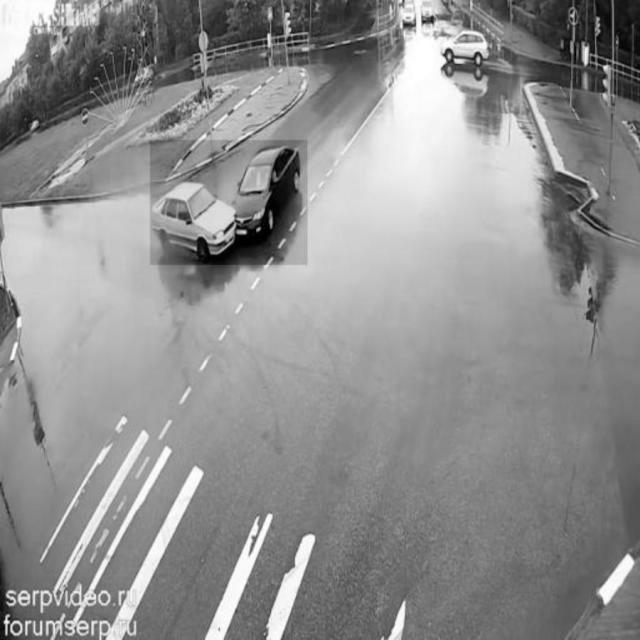accident: (151, 140, 308, 264)
vehicle: (440, 29, 487, 69), (414, 1, 436, 23), (402, 7, 419, 27)
